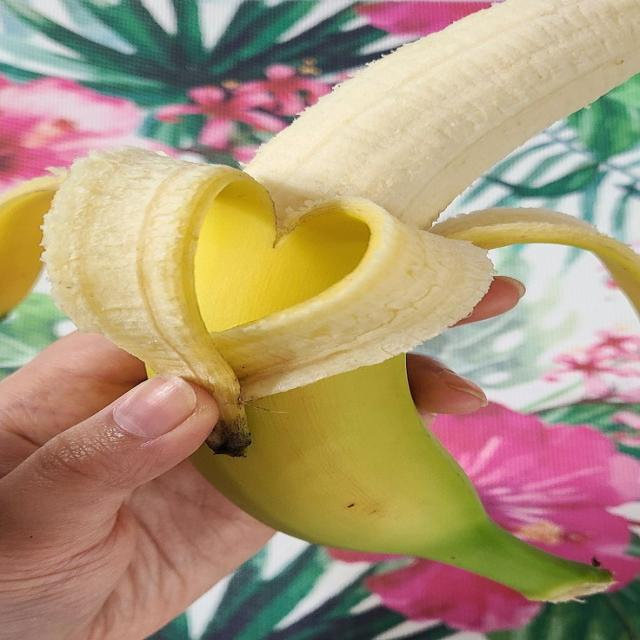banana: (45, 0, 639, 600), (0, 177, 59, 318)
